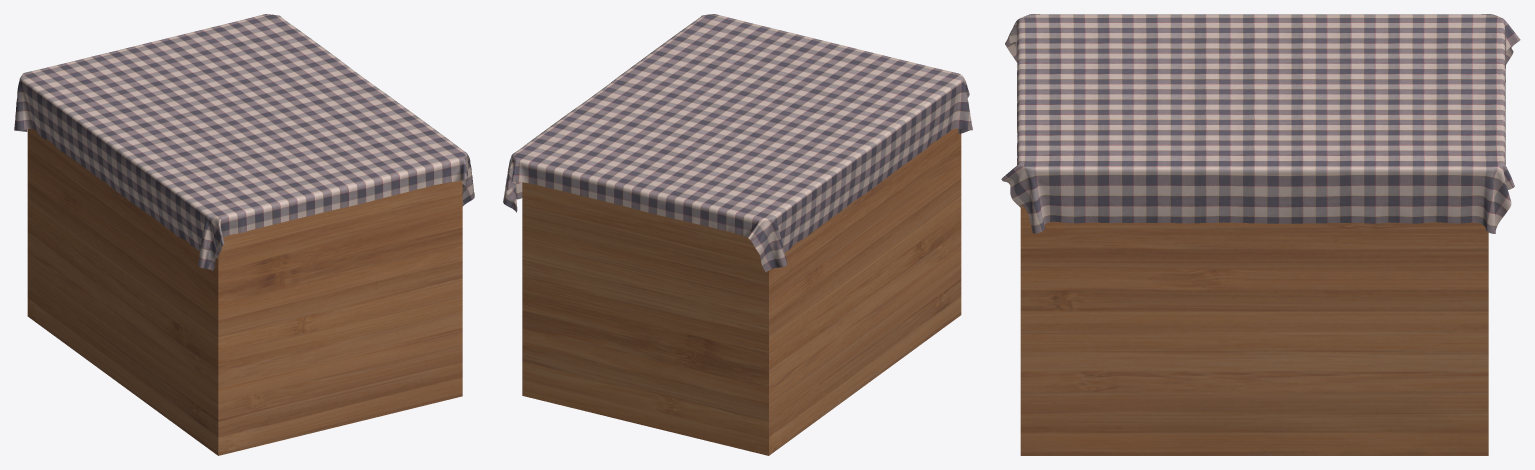
File: isla_mantel.fbx
3 renders of one model, left to right at view 1: azimuth 30°, elevation 25°; view 2: azimuth 150°, elevation 25°; view 3: azimuth 270°, elevation 25°, orthographic. The views are drawn at different scales.
Parts seen in each view (by area): view 1: pCube49, polySurface2299; view 2: pCube49, polySurface2299; view 3: pCube49, polySurface2299.
Boxes of the visible parts, x1=… form: pCube49: x1=27, y1=129, x2=462, y2=455; polySurface2299: x1=14, y1=14, x2=474, y2=270; pCube49: x1=522, y1=128, x2=961, y2=455; polySurface2299: x1=503, y1=14, x2=972, y2=272; pCube49: x1=1020, y1=205, x2=1488, y2=455; polySurface2299: x1=1001, y1=14, x2=1520, y2=233.
Size of the model in its own units: 3.23 by 2.65 by 4.25.
Materials: 2 (2 with a texture image).
